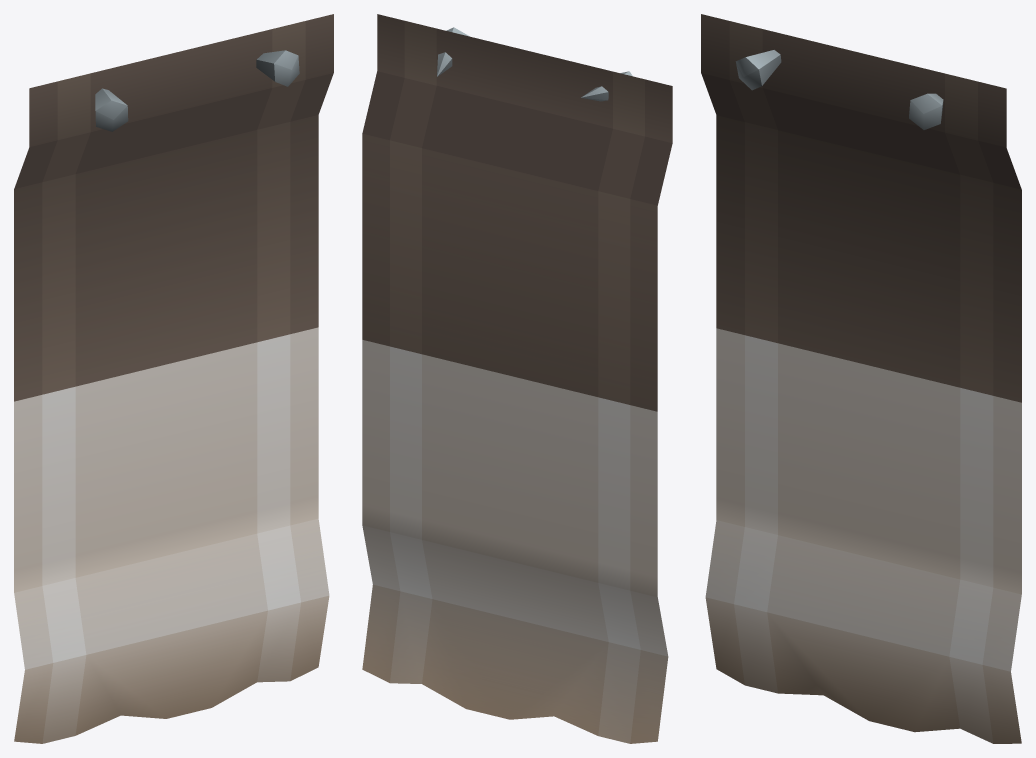
Rendered from banner_patternC_white.glb.
The picture shows the model from 3 angles, left to right: view 1: azimuth 30°, elevation 25°; view 2: azimuth 150°, elevation 25°; view 3: azimuth 330°, elevation 25°; orthographic projection. The views are drawn at different scales.
Visible parts, largest first — view 1: banner_patternC_white; view 2: banner_patternC_white; view 3: banner_patternC_white.
Boxes of the visible parts, x1=… form: banner_patternC_white: x1=14, y1=14, x2=333, y2=743; banner_patternC_white: x1=362, y1=14, x2=672, y2=743; banner_patternC_white: x1=701, y1=14, x2=1021, y2=743.
Bounding box in the file's own units: 1.5 × 3.2 × 0.3117.
1 material, 1 textured.
